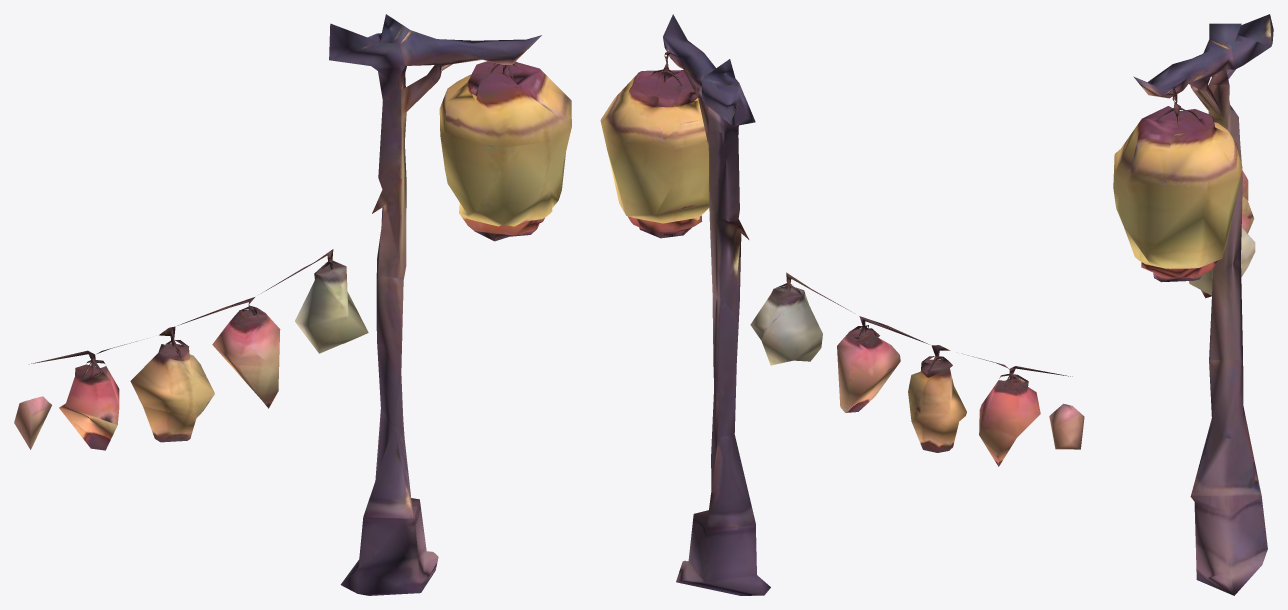
Rendered from lamp_lanterns_string.glb.
The picture shows the model from 3 angles, left to right: view 1: azimuth 30°, elevation 25°; view 2: azimuth 150°, elevation 25°; view 3: azimuth 270°, elevation 25°; orthographic projection. The views are drawn at different scales.
Parts seen in each view (by area): view 1: tripo_node_9554072b-fc37-4869-a8e9-24cbc19a606f; view 2: tripo_node_9554072b-fc37-4869-a8e9-24cbc19a606f; view 3: tripo_node_9554072b-fc37-4869-a8e9-24cbc19a606f.
Part boxes in pixels (bbox=[...]): tripo_node_9554072b-fc37-4869-a8e9-24cbc19a606f: bbox=[14, 14, 571, 595]; tripo_node_9554072b-fc37-4869-a8e9-24cbc19a606f: bbox=[600, 14, 1084, 595]; tripo_node_9554072b-fc37-4869-a8e9-24cbc19a606f: bbox=[1113, 14, 1273, 595].
Bounding box in the file's own units: 0.9241 × 0.9483 × 0.2502.
Materials: 1 (1 with a texture image).
